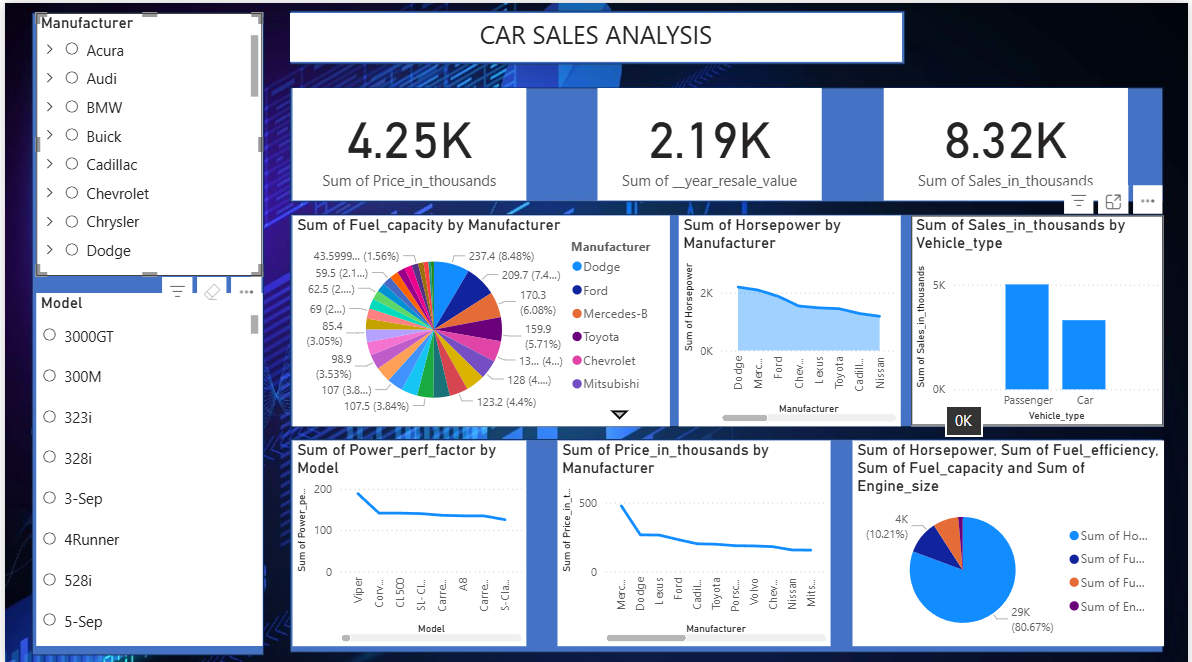

The page's visual inventory and layout, read from the dashboard file:
{"tool":"powerbi","page":{"name":"Page 1","canvas":[1280,720],"ordinal":0},"visuals":[{"type":"card","fields":{"Values":["Sum(Car_sales.Price_in_thousands)"]},"box":[311.5,91.4,253.1,121.9],"z":0},{"type":"card","fields":{"Values":["Sum(Car_sales.Sales_in_thousands)"]},"box":[950.3,91.4,263.7,121.9],"z":1000},{"type":"card","fields":{"Values":["Sum(Car_sales.__year_resale_value)"]},"box":[640.1,91.4,242.5,121.9],"z":2000},{"type":"pieChart","fields":{"Y":["Sum(Car_sales.Fuel_capacity)"],"Category":["Car_sales.Manufacturer"]},"box":[311.5,229.3,408.2,228],"z":3000},{"type":"stackedAreaChart","fields":{"Y":["Sum(Car_sales.Horsepower)"],"Category":["Car_sales.Manufacturer"]},"box":[728.9,229.3,239.9,228],"z":4000},{"type":"columnChart","fields":{"Category":["Car_sales.Vehicle_type"],"Y":["Sum(Car_sales.Sales_in_thousands)"]},"box":[979.4,229.3,273,228],"z":5000},{"type":"lineChart","fields":{"Y":["Sum(Car_sales.Power_perf_factor)"],"Category":["Car_sales.Model"]},"box":[311.5,473.1,253.1,222.7],"z":6000},{"type":"listSlicer","fields":{"Values":["Car_sales.Manufacturer","Car_sales.Model"]},"box":[33.1,10.6,245.2,283.6],"z":7000},{"type":"lineChart","fields":{"Y":["Sum(Car_sales.Price_in_thousands)"],"Category":["Car_sales.Manufacturer"]},"box":[597.7,473.1,295.5,222.7],"z":7001},{"type":"pieChart","fields":{"Y":["Sum(Car_sales.Horsepower)","Sum(Car_sales.Fuel_efficiency)","Sum(Car_sales.Fuel_capacity)","Sum(Car_sales.Engine_size)"]},"box":[915.8,473.1,336.6,222.7],"z":7002},{"type":"listSlicer","fields":{"Values":["Car_sales.Model"]},"box":[33.1,314.1,245.2,381.7],"z":7003}]}

Visuals, with their boxes in screenshot pixels (x1, y1, x2, y2):
card - Sum(Car_sales.Price_in_thousands): (292,80,530,194)
card - Sum(Car_sales.Sales_in_thousands): (892,80,1140,194)
card - Sum(Car_sales.__year_resale_value): (601,80,829,194)
pieChart - Sum(Car_sales.Fuel_capacity) x Car_sales.Manufacturer: (292,209,676,423)
stackedAreaChart - Sum(Car_sales.Horsepower) x Car_sales.Manufacturer: (684,209,910,423)
columnChart - Car_sales.Vehicle_type x Sum(Car_sales.Sales_in_thousands): (920,209,1176,423)
lineChart - Sum(Car_sales.Power_perf_factor) x Car_sales.Model: (292,438,530,647)
listSlicer - Car_sales.Manufacturer x Car_sales.Model: (31,4,261,270)
lineChart - Sum(Car_sales.Price_in_thousands) x Car_sales.Manufacturer: (561,438,839,647)
pieChart - Sum(Car_sales.Horsepower) x Sum(Car_sales.Fuel_efficiency): (860,438,1176,647)
listSlicer - Car_sales.Model: (31,289,261,647)
